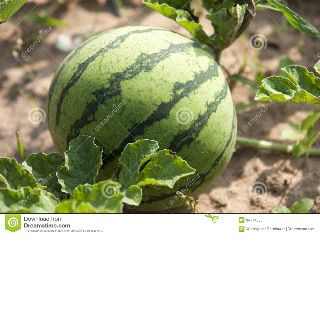dua_hau: (38, 22, 241, 203)
